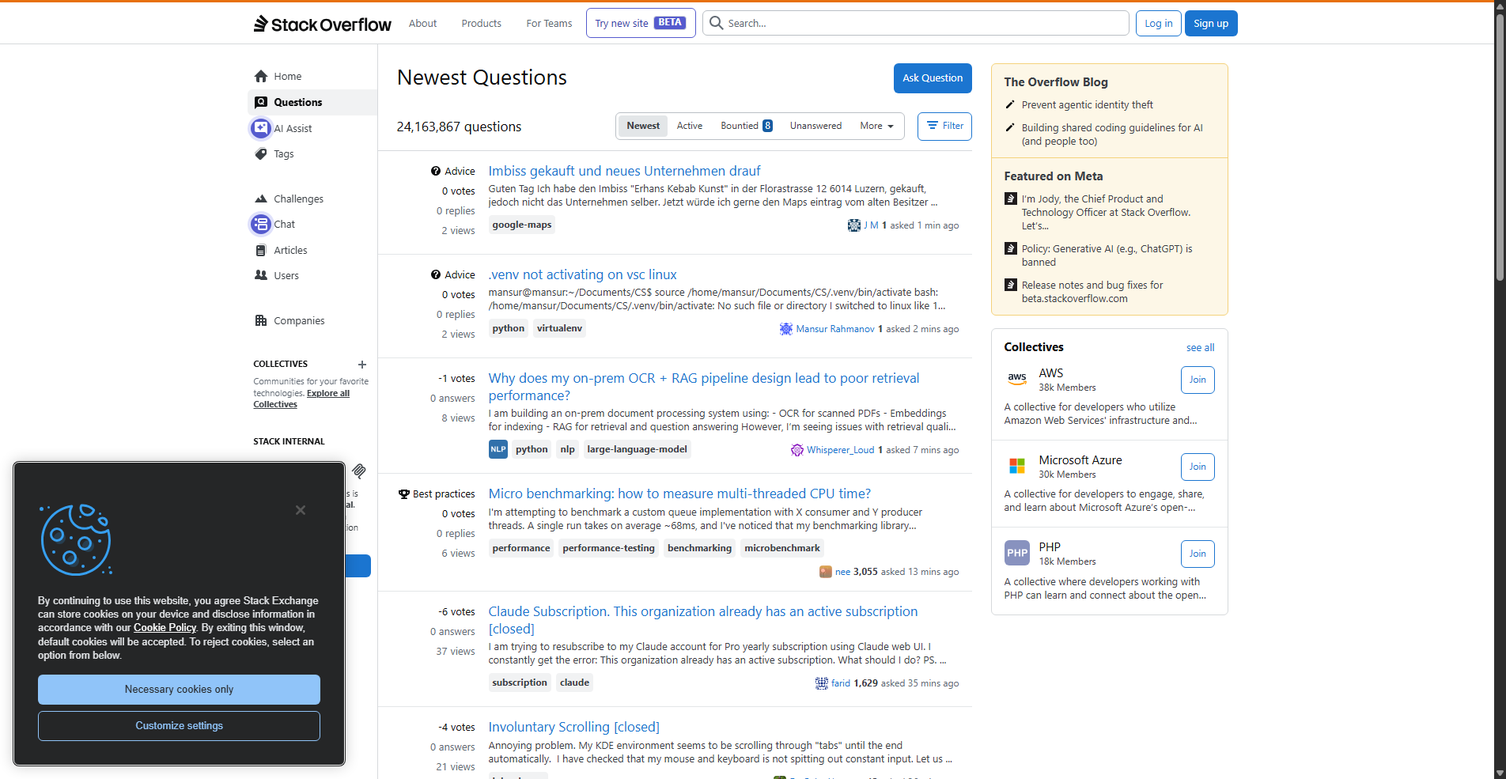button: (38, 668, 321, 741), (38, 675, 321, 705), (38, 711, 321, 741), (616, 112, 905, 140), (649, 467, 845, 486), (649, 492, 845, 511), (649, 623, 845, 641), (586, 8, 696, 38), (658, 594, 832, 612), (254, 554, 371, 577), (254, 578, 371, 600), (894, 63, 972, 93), (407, 352, 470, 379), (780, 115, 851, 137), (917, 112, 972, 140), (711, 115, 780, 137), (451, 11, 512, 34), (254, 359, 377, 370), (1185, 10, 1237, 36), (283, 493, 318, 528), (1136, 10, 1182, 36), (917, 352, 961, 379), (851, 115, 902, 137), (619, 115, 668, 137), (1181, 366, 1215, 394), (1181, 453, 1215, 481), (1181, 540, 1215, 568), (668, 115, 711, 137), (749, 505, 815, 519), (695, 505, 741, 519), (788, 121, 843, 132), (658, 483, 699, 497), (696, 440, 736, 454), (658, 461, 691, 476), (836, 393, 857, 416), (822, 393, 843, 416), (789, 461, 821, 476), (777, 483, 810, 497), (719, 121, 760, 132), (658, 440, 689, 454), (766, 440, 796, 454), (658, 505, 688, 519), (772, 527, 802, 541), (728, 461, 755, 476), (627, 121, 660, 132), (740, 527, 765, 541), (683, 527, 707, 541), (699, 461, 720, 476), (676, 121, 703, 132), (803, 440, 824, 454), (762, 461, 781, 476), (750, 483, 770, 497), (859, 121, 883, 132), (707, 483, 725, 497), (658, 527, 675, 541), (715, 527, 732, 541), (744, 440, 758, 454), (763, 119, 773, 132), (733, 483, 742, 497), (833, 599, 841, 608), (765, 120, 770, 131)
checkbox: (407, 228, 417, 239), (407, 185, 417, 195), (407, 207, 417, 217), (407, 250, 417, 260)
dropdown: (658, 566, 832, 582)
input: (702, 10, 1129, 36), (790, 228, 952, 251), (649, 595, 845, 611), (649, 561, 845, 576), (675, 568, 827, 580), (407, 269, 458, 295)
label: (420, 204, 596, 219), (649, 550, 845, 559), (649, 584, 845, 593), (635, 269, 744, 285), (420, 226, 525, 241), (782, 204, 884, 219), (782, 182, 875, 198), (635, 204, 713, 219), (635, 248, 713, 263), (635, 313, 705, 329), (635, 226, 709, 241), (420, 182, 484, 198), (420, 248, 483, 263), (635, 291, 684, 307), (461, 275, 509, 290), (635, 182, 677, 198)
link: (488, 603, 918, 637), (488, 370, 920, 403), (1022, 193, 1190, 232), (247, 2, 398, 43), (488, 486, 871, 502), (1022, 122, 1203, 147), (1022, 243, 1192, 268), (488, 163, 760, 178), (1022, 279, 1163, 304), (247, 63, 377, 89), (247, 89, 377, 115), (247, 115, 377, 141), (247, 141, 377, 167), (247, 211, 377, 237), (247, 237, 377, 263), (247, 263, 377, 289), (247, 308, 377, 334), (247, 186, 377, 211), (488, 266, 677, 282), (488, 719, 660, 735), (254, 388, 350, 410), (583, 440, 691, 459), (559, 538, 659, 557), (740, 538, 824, 557), (1022, 99, 1153, 111), (515, 11, 583, 34), (664, 538, 736, 557), (488, 215, 555, 234), (488, 538, 554, 557), (1039, 453, 1122, 468), (488, 673, 551, 692), (398, 11, 447, 34), (533, 319, 586, 338), (1464, 745, 1494, 776), (796, 324, 874, 334), (488, 319, 528, 338), (512, 440, 552, 459), (134, 622, 196, 634), (556, 673, 593, 692), (807, 445, 874, 455), (556, 440, 579, 459), (488, 772, 548, 779), (488, 440, 507, 459), (1039, 366, 1063, 380), (1039, 540, 1061, 555), (1186, 342, 1215, 353), (685, 448, 719, 455), (747, 440, 786, 446), (831, 679, 850, 688), (848, 219, 861, 232), (819, 565, 832, 578), (815, 677, 828, 690), (780, 323, 793, 335), (791, 444, 804, 456), (790, 777, 864, 779), (835, 567, 850, 576), (864, 221, 878, 230), (720, 653, 737, 660), (774, 776, 786, 779)
radio: (621, 228, 632, 239), (621, 185, 632, 195), (621, 207, 632, 217), (621, 250, 632, 260), (621, 272, 632, 282), (621, 294, 632, 304), (621, 316, 632, 326), (769, 185, 779, 195), (769, 207, 779, 217)
